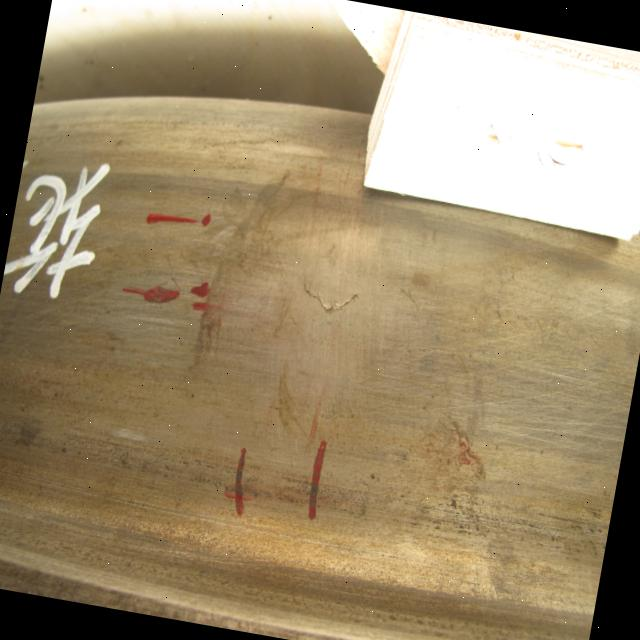Contact_Fatigue_Cracks: (297, 277, 358, 322)
